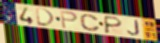4: (19, 6, 35, 26)
C: (79, 13, 102, 33)
D: (34, 7, 56, 27)
J: (126, 20, 141, 37)
P: (59, 10, 80, 30), (104, 15, 124, 35)
